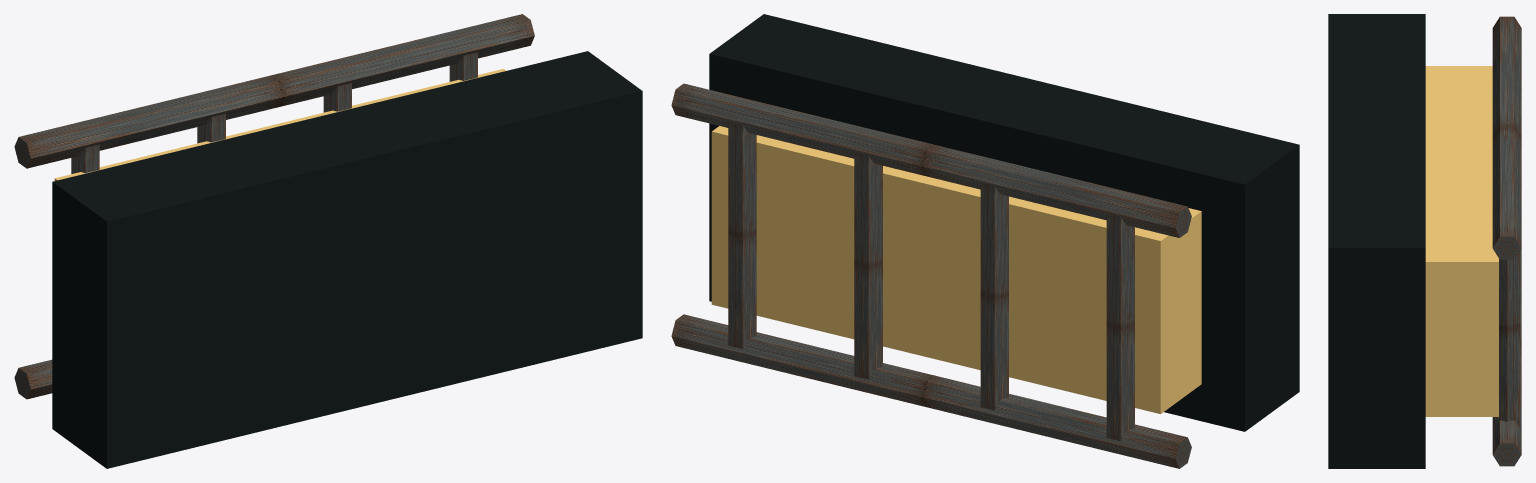
Rendered from BulkheadLamp.obj.
3 renders of one model, left to right at view 1: azimuth 30°, elevation 25°; view 2: azimuth 150°, elevation 25°; view 3: azimuth 270°, elevation 25°, orthographic. The views are drawn at different scales.
Visible parts, largest first — view 1: BulkheadLamp; view 2: BulkheadLamp; view 3: BulkheadLamp.
Boxes of the visible parts, left/top/right/bottom form: BulkheadLamp: left=14, top=14, right=642, bottom=468; BulkheadLamp: left=671, top=14, right=1299, bottom=468; BulkheadLamp: left=1328, top=14, right=1521, bottom=468.
Size of the model in its own units: 0.68 by 0.3112 by 0.238.
Materials: 3 (1 with a texture image).
